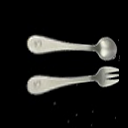fork: (14, 57, 128, 97)
